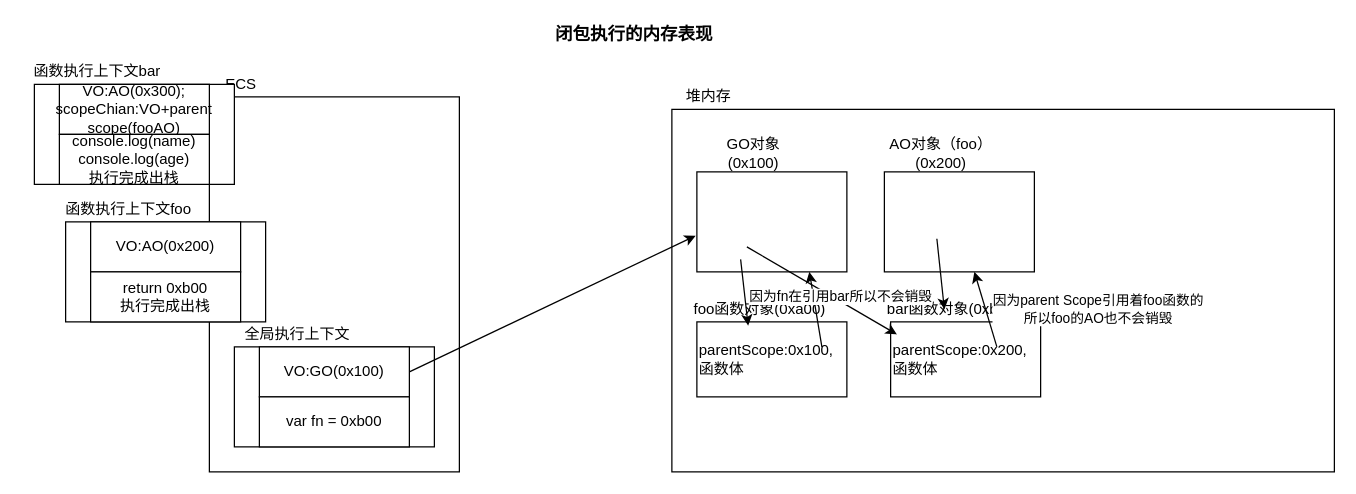
The diagram is 1356 pixels wide and 494 high, and some of its shapes have lost their labels. Each missing label, with the box of its shape:
Date String window message:"hello word" fn:0xb00 foo:0xa00: (696, 171, 847, 272)
name:"foo", age:18, bar:0xb00: (883, 171, 1034, 272)
